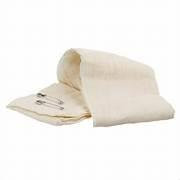cotton: (8, 49, 173, 125), (8, 83, 89, 124)
